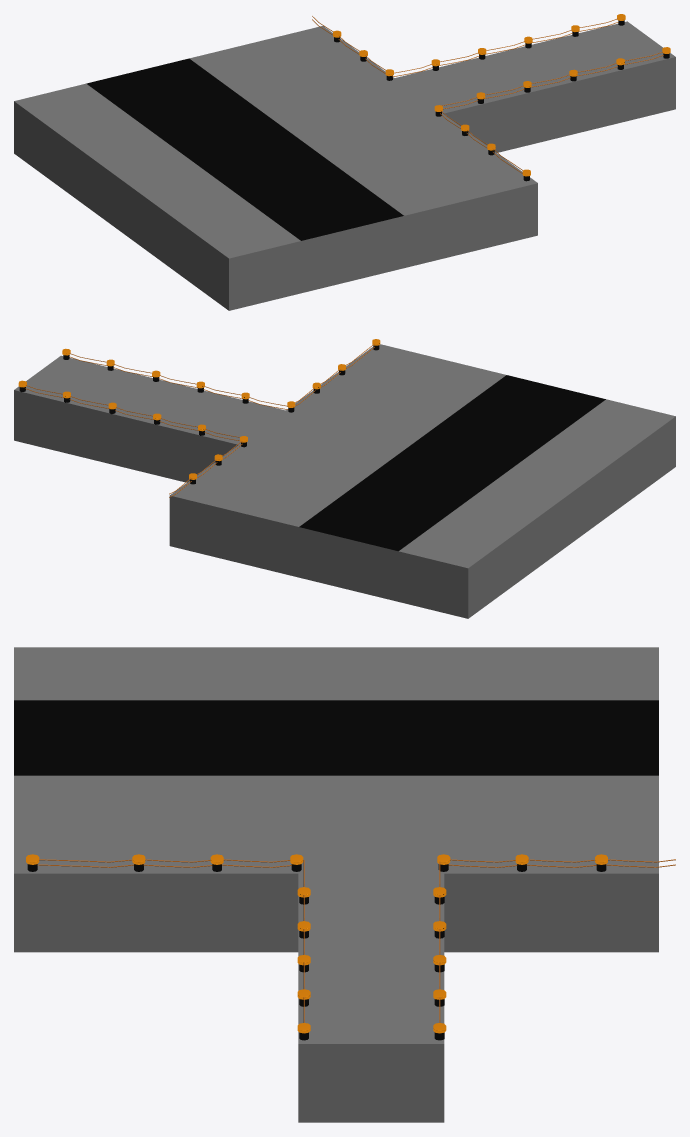
Rendered from BoatDock_2.fbx.
3 renders of one model, top to bottom at view 1: azimuth 30°, elevation 25°; view 2: azimuth 150°, elevation 25°; view 3: azimuth 270°, elevation 25°, orthographic. The views are drawn at different scales.
Visible parts, largest first — view 1: Cube.310; view 2: Cube.310; view 3: Cube.310.
Boxes of the visible parts, bbox=[...] form: Cube.310: bbox=[14, 14, 675, 310]; Cube.310: bbox=[14, 339, 675, 618]; Cube.310: bbox=[14, 647, 675, 1122].
Bounding box in the file's own units: 13174 × 1416 × 9296.
